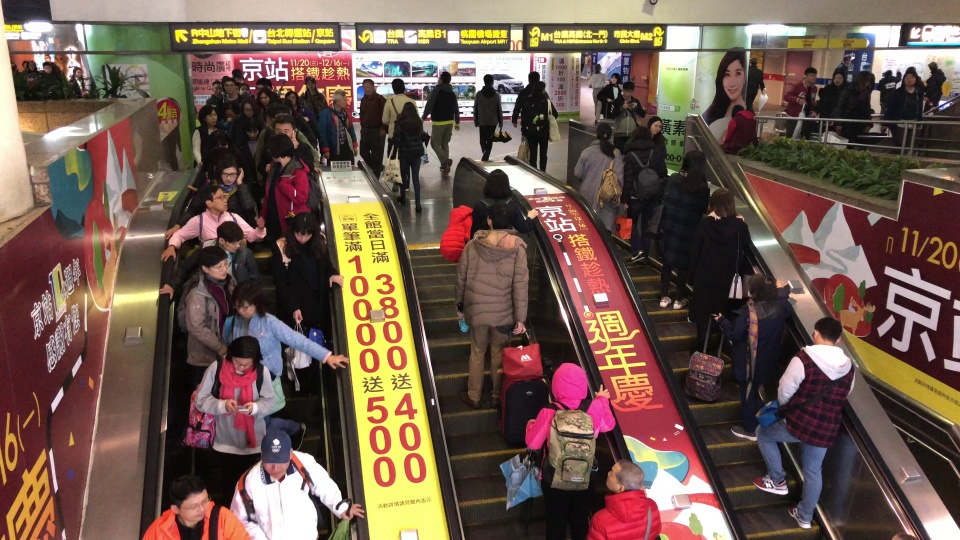person_head: (166, 474, 210, 521), (260, 428, 293, 479), (550, 361, 588, 404), (605, 459, 645, 494), (231, 279, 265, 320), (225, 335, 261, 372), (198, 246, 229, 281), (289, 211, 318, 246), (811, 316, 842, 348), (481, 169, 511, 201), (216, 220, 244, 253), (746, 273, 777, 302), (267, 132, 294, 164), (708, 187, 735, 219), (199, 184, 228, 213), (216, 152, 239, 186), (485, 202, 512, 230), (679, 149, 706, 175), (205, 128, 230, 153), (274, 114, 295, 140), (853, 70, 875, 94), (267, 103, 290, 125), (242, 116, 261, 141), (197, 104, 217, 125), (630, 126, 652, 143), (222, 101, 240, 121), (240, 97, 257, 118), (595, 121, 612, 141), (332, 88, 348, 109), (401, 100, 417, 120), (647, 115, 662, 136), (254, 77, 272, 94), (391, 77, 406, 95), (257, 87, 271, 106), (901, 71, 917, 87), (831, 70, 846, 87), (361, 78, 375, 96), (803, 66, 817, 84), (436, 70, 452, 85), (284, 90, 299, 105), (622, 81, 635, 98), (531, 80, 546, 94), (526, 70, 540, 85), (223, 78, 236, 94), (211, 80, 223, 97), (731, 104, 745, 118), (304, 74, 316, 90), (238, 82, 250, 96), (232, 71, 244, 85), (482, 73, 494, 87), (609, 72, 621, 86), (842, 54, 855, 65), (42, 61, 53, 73), (927, 61, 938, 72), (72, 65, 82, 77), (26, 61, 37, 71), (593, 63, 602, 73), (883, 68, 893, 77), (749, 56, 757, 66), (21, 60, 29, 69), (43, 54, 51, 62)
person_vbox: (750, 316, 856, 529), (219, 279, 349, 452), (523, 361, 616, 539), (453, 202, 530, 410), (229, 428, 365, 540), (194, 335, 276, 509), (270, 211, 344, 400), (728, 275, 810, 444), (696, 187, 760, 358), (183, 246, 237, 426), (158, 183, 267, 262), (657, 149, 710, 310), (163, 153, 259, 240), (158, 221, 259, 301), (141, 474, 252, 540), (620, 126, 668, 266), (259, 133, 312, 253), (585, 458, 662, 540), (573, 121, 624, 236), (254, 102, 322, 184), (469, 169, 539, 241), (256, 114, 314, 196), (380, 77, 421, 193), (511, 70, 559, 164), (419, 70, 460, 175), (825, 70, 875, 150), (392, 99, 426, 213), (880, 71, 924, 153), (316, 88, 359, 165), (607, 80, 646, 156), (298, 73, 329, 165), (472, 73, 504, 161), (359, 77, 386, 181), (807, 70, 851, 132), (520, 80, 549, 173), (782, 66, 818, 140), (190, 104, 224, 169), (720, 104, 759, 155), (875, 68, 902, 127), (588, 63, 611, 124), (596, 72, 623, 119), (746, 56, 766, 116), (283, 89, 316, 125), (924, 61, 946, 115), (647, 115, 667, 165), (237, 117, 261, 158), (831, 53, 855, 81), (257, 87, 280, 116), (222, 77, 240, 114), (218, 101, 240, 130), (67, 65, 86, 98), (43, 53, 61, 83), (205, 80, 226, 104), (22, 61, 41, 86), (580, 52, 592, 75)
